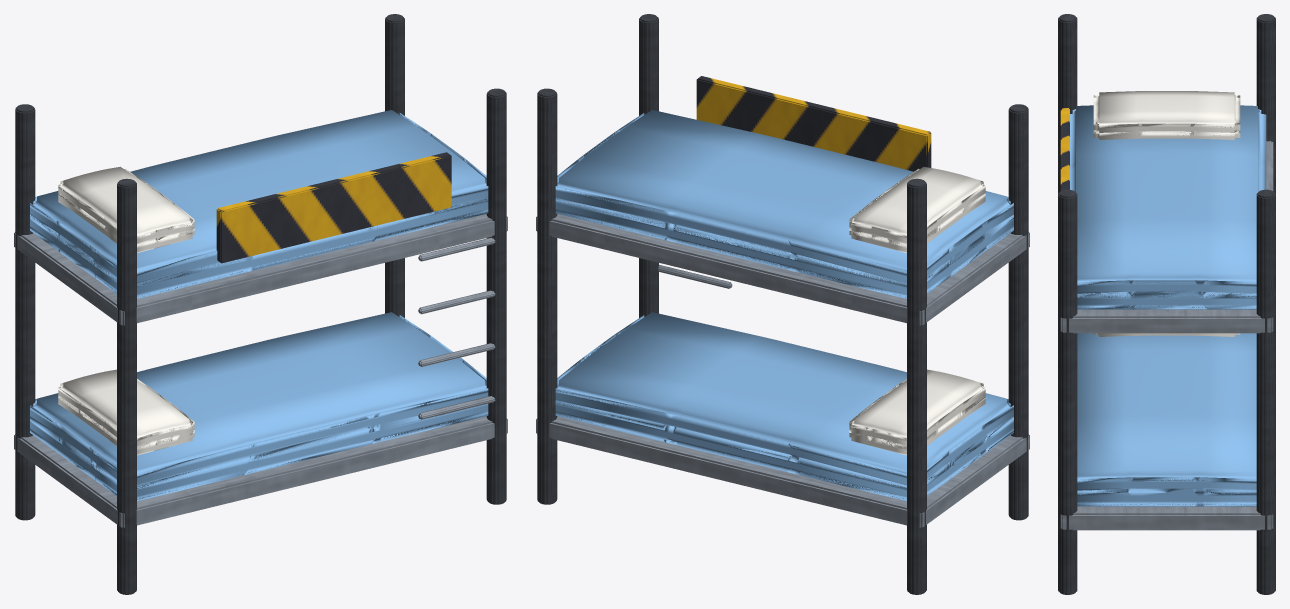
File: furn_bunkbed.glb
3 renders of one model, left to right at view 1: azimuth 30°, elevation 25°; view 2: azimuth 150°, elevation 25°; view 3: azimuth 270°, elevation 25°, orthographic. The views are drawn at different scales.
Parts seen in each view (by area): view 1: furn_bunkbed; view 2: furn_bunkbed; view 3: furn_bunkbed.
Boxes of the visible parts, x1,y1,x2,y2 form: furn_bunkbed: [14, 14, 507, 594]; furn_bunkbed: [536, 14, 1029, 594]; furn_bunkbed: [1058, 14, 1275, 594].
Size of the model in its own units: 1.84 by 1.86 by 0.9213.
Materials: 5 (3 with a texture image).
